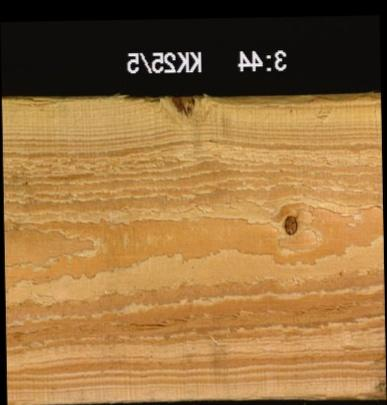dry_knot: (281, 212, 297, 235)
split: (20, 95, 52, 105)
wave: (53, 91, 379, 102)
